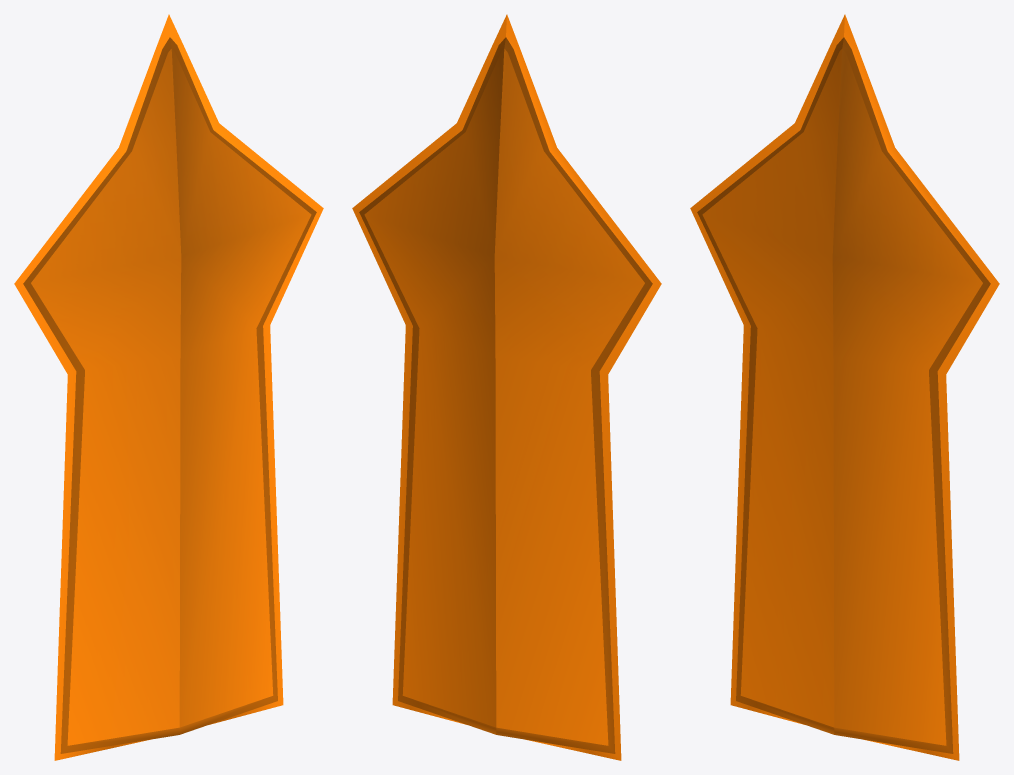
Rendered from bronze_blade (16).glb.
3 renders of one model, left to right at view 1: azimuth 30°, elevation 25°; view 2: azimuth 150°, elevation 25°; view 3: azimuth 330°, elevation 25°, orthographic.
Visible parts, largest first — view 1: bronze_blade_steel.027; view 2: bronze_blade_steel.027; view 3: bronze_blade_steel.027.
Part boxes in pixels (box(x1,y1,x2,y2)): bronze_blade_steel.027: box(14, 14, 323, 760); bronze_blade_steel.027: box(352, 14, 661, 760); bronze_blade_steel.027: box(690, 14, 999, 760).
Size of the model in its own units: 5.28 by 11.76 by 0.7262.
Materials: 1 (1 with a texture image).
